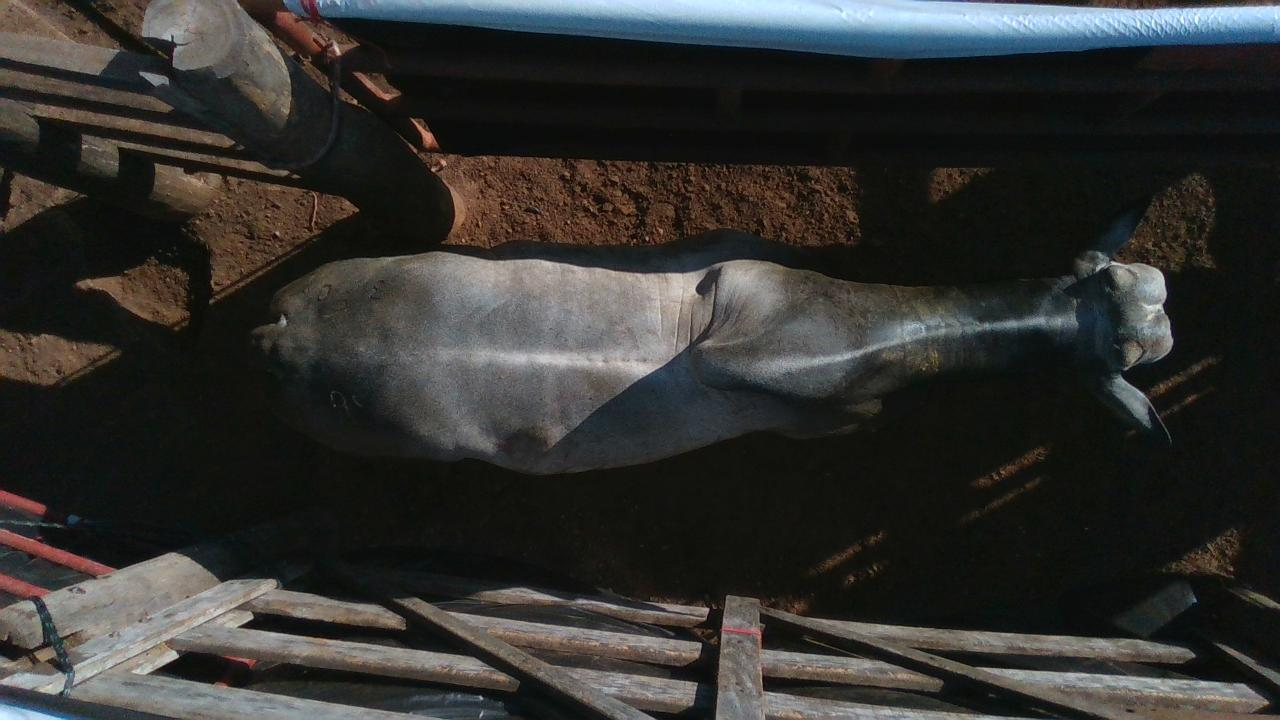cattle: (246, 232, 1177, 476)
